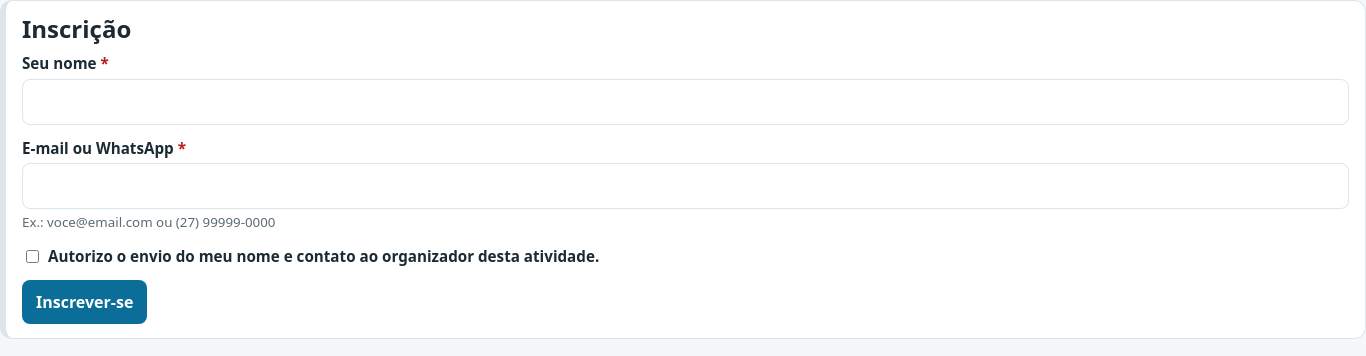
convite após a inscrição › quem já avaliou não recebe o convite
Type "Bia" into the field labelled "Seu nome *" at coordinates (686, 102), box [22,79,1349,125]
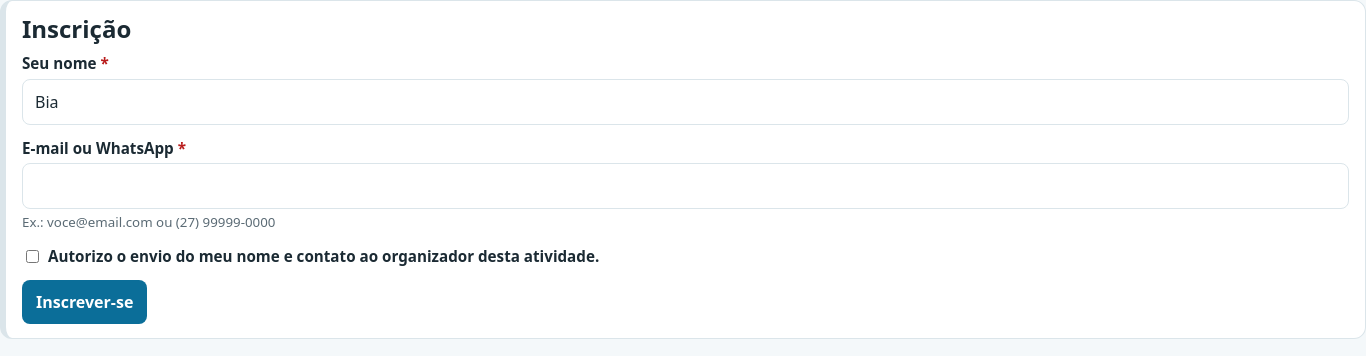
Type "bia@exemplo.com" into the field labelled "E-mail ou WhatsApp *" at coordinates (686, 186), box [22,163,1349,209]
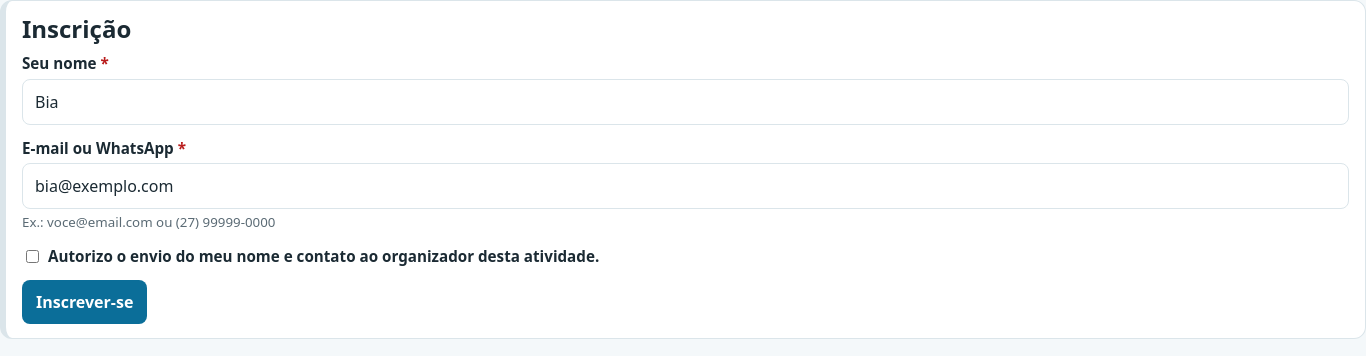
Click the checkbox labelled "Autorizo" at coordinates (32, 257), box [26,250,39,263]
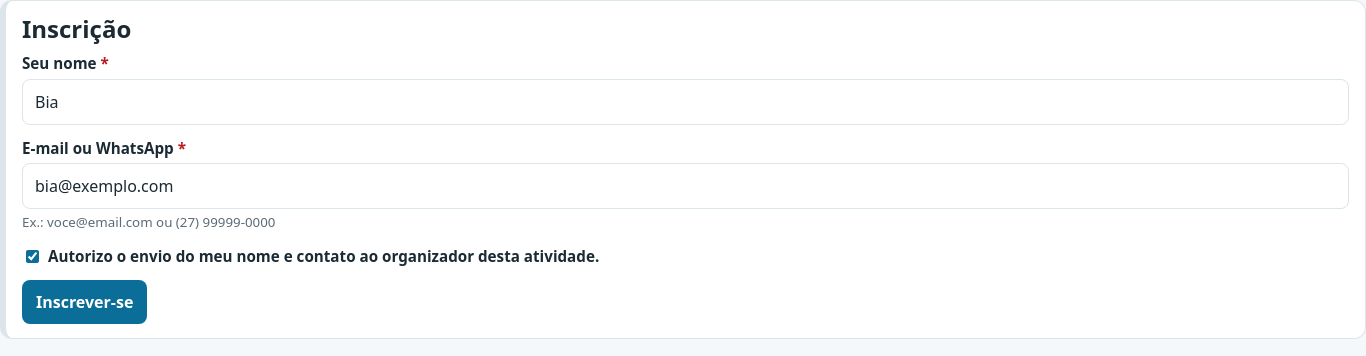
Click the button "Inscrever-se" at coordinates (85, 302), box [22,280,147,324]
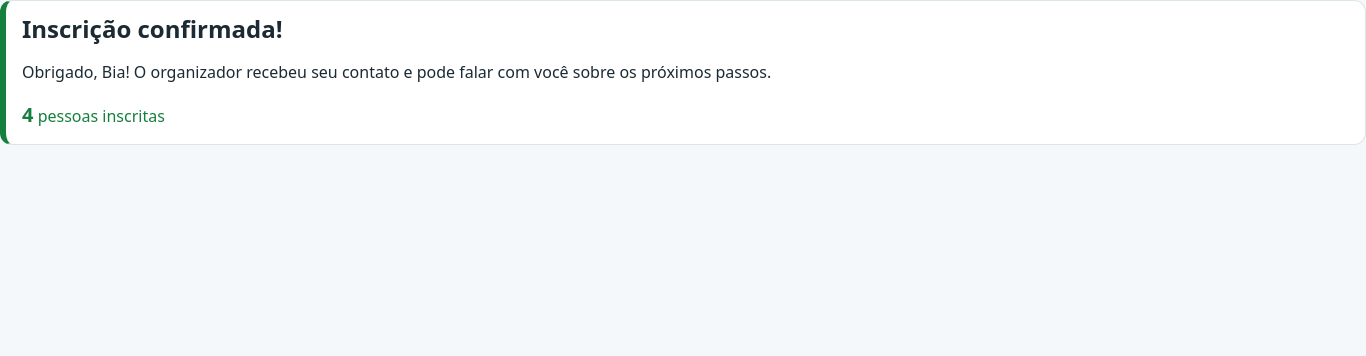
Now the heading "Inscrição confirmada!" is shown, box [22,12,283,45]
